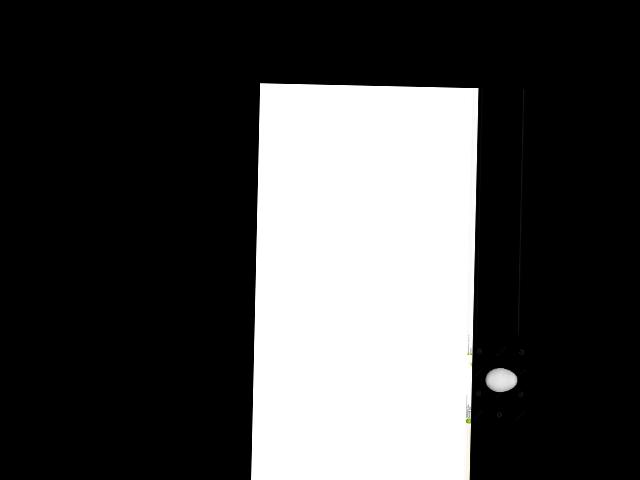egg: (484, 366, 517, 391)
